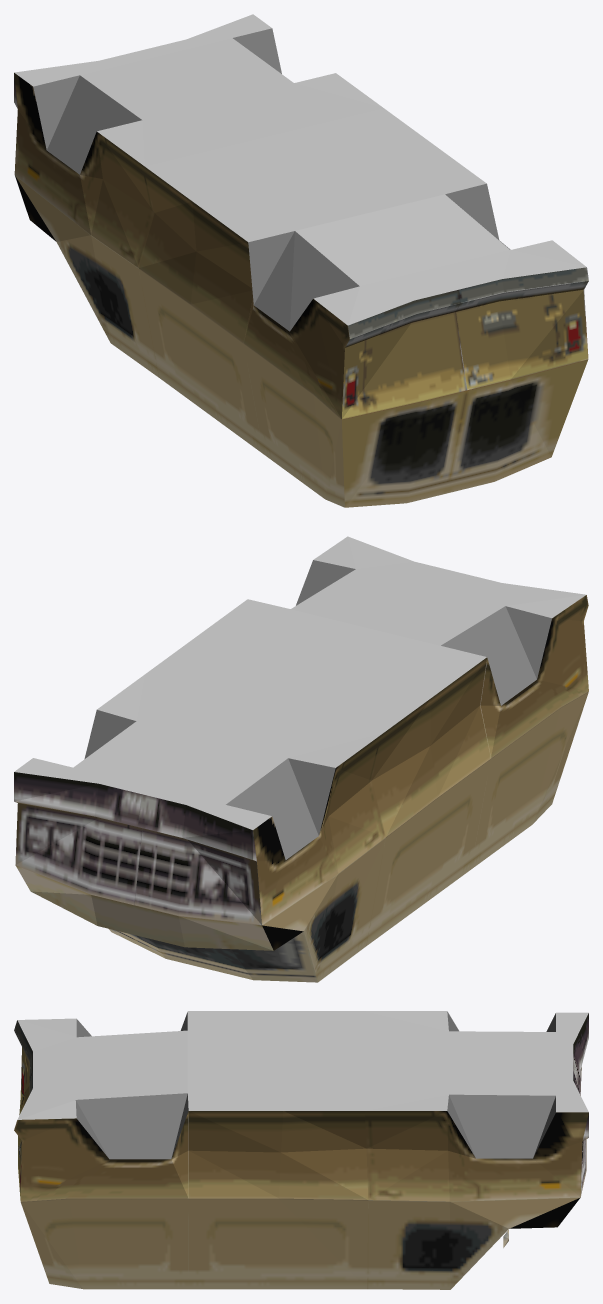
Rendered from CHICAGO_model4_damaged.obj.
3 views of the same model, one above another, from view 1: azimuth 30°, elevation 25°; view 2: azimuth 150°, elevation 25°; view 3: azimuth 270°, elevation 25° (orthographic). The views are drawn at different scales.
Visible parts, largest first — view 1: CHICAGO_model4_damaged; view 2: CHICAGO_model4_damaged; view 3: CHICAGO_model4_damaged.
Part boxes in pixels (x1=…): CHICAGO_model4_damaged: x1=14, y1=14, x2=588, y2=507; CHICAGO_model4_damaged: x1=14, y1=536, x2=588, y2=982; CHICAGO_model4_damaged: x1=14, y1=1011, x2=588, y2=1289.
Bounding box in the file's own units: 318 × 262 × 698.
